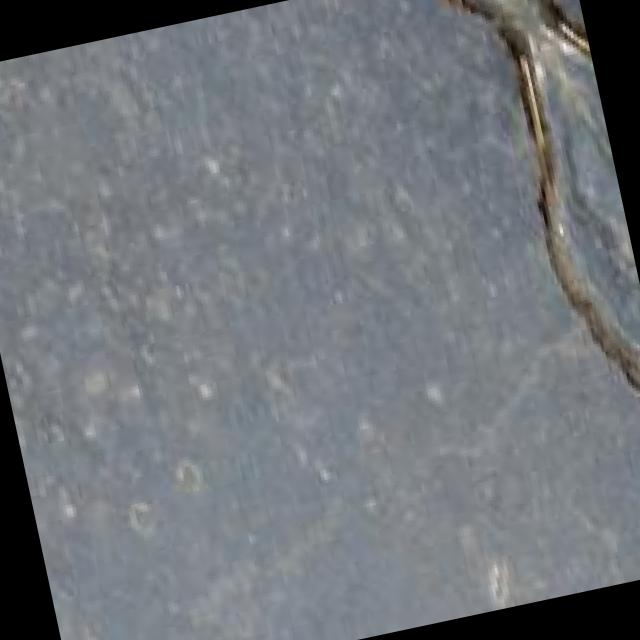crack: (373, 0, 640, 548)
